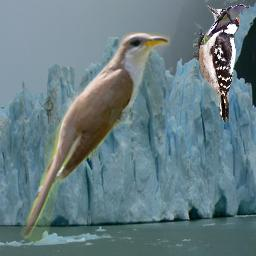Cuckoo: (18, 32, 170, 243), (201, 4, 249, 45)
Woodpecker: (193, 5, 241, 125)
